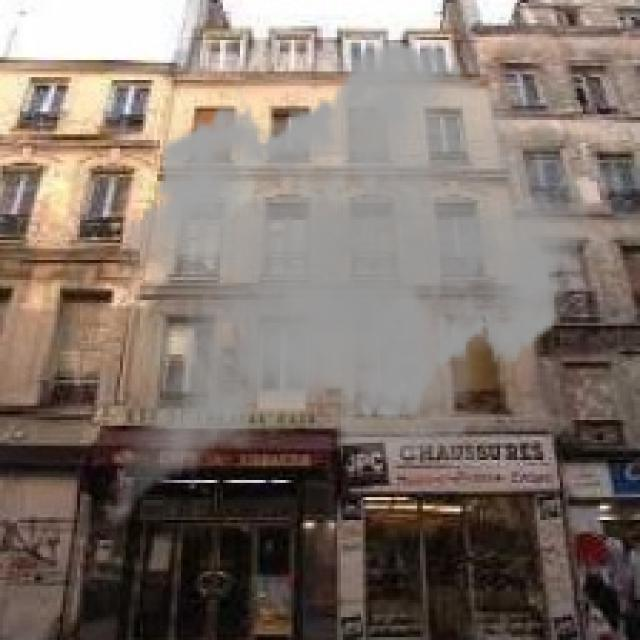Smoke: (97, 28, 617, 554)
